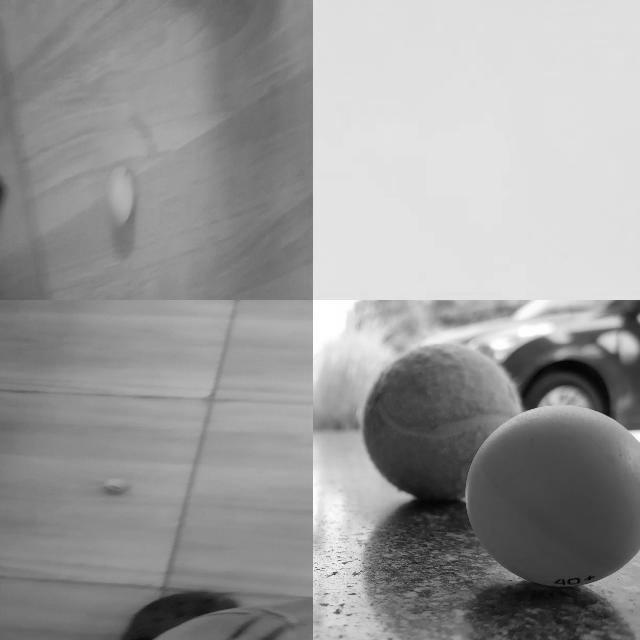ping-pong-ball: (465, 405, 639, 587), (105, 167, 134, 224), (101, 478, 128, 492)
